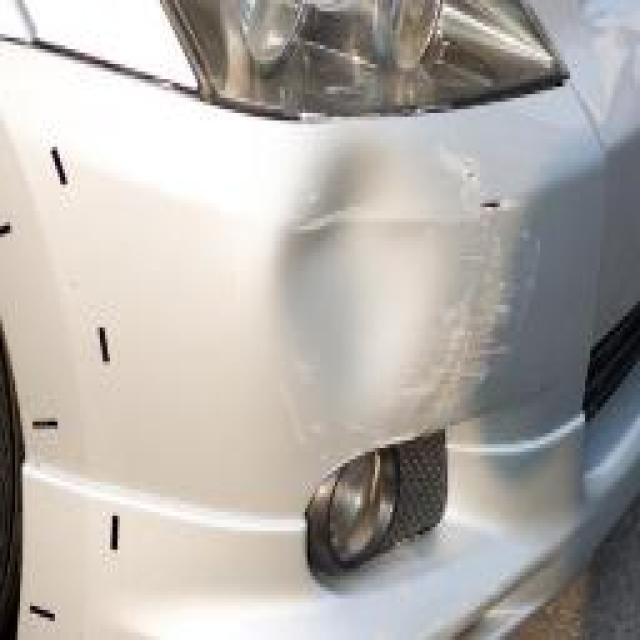Bumper: (232, 128, 548, 516)
